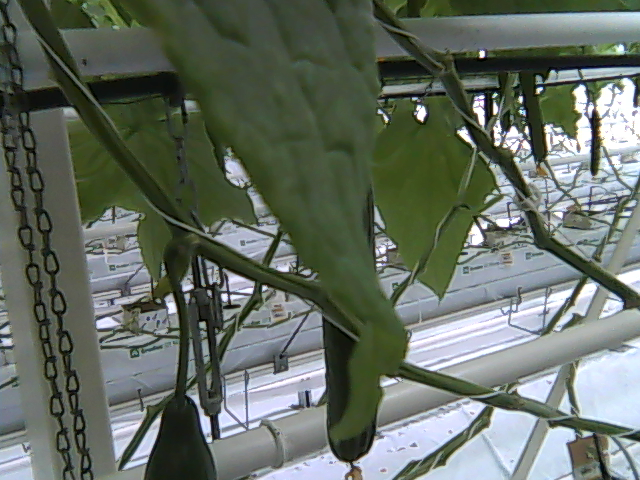concombre: (320, 177, 388, 480), (145, 389, 222, 480)
